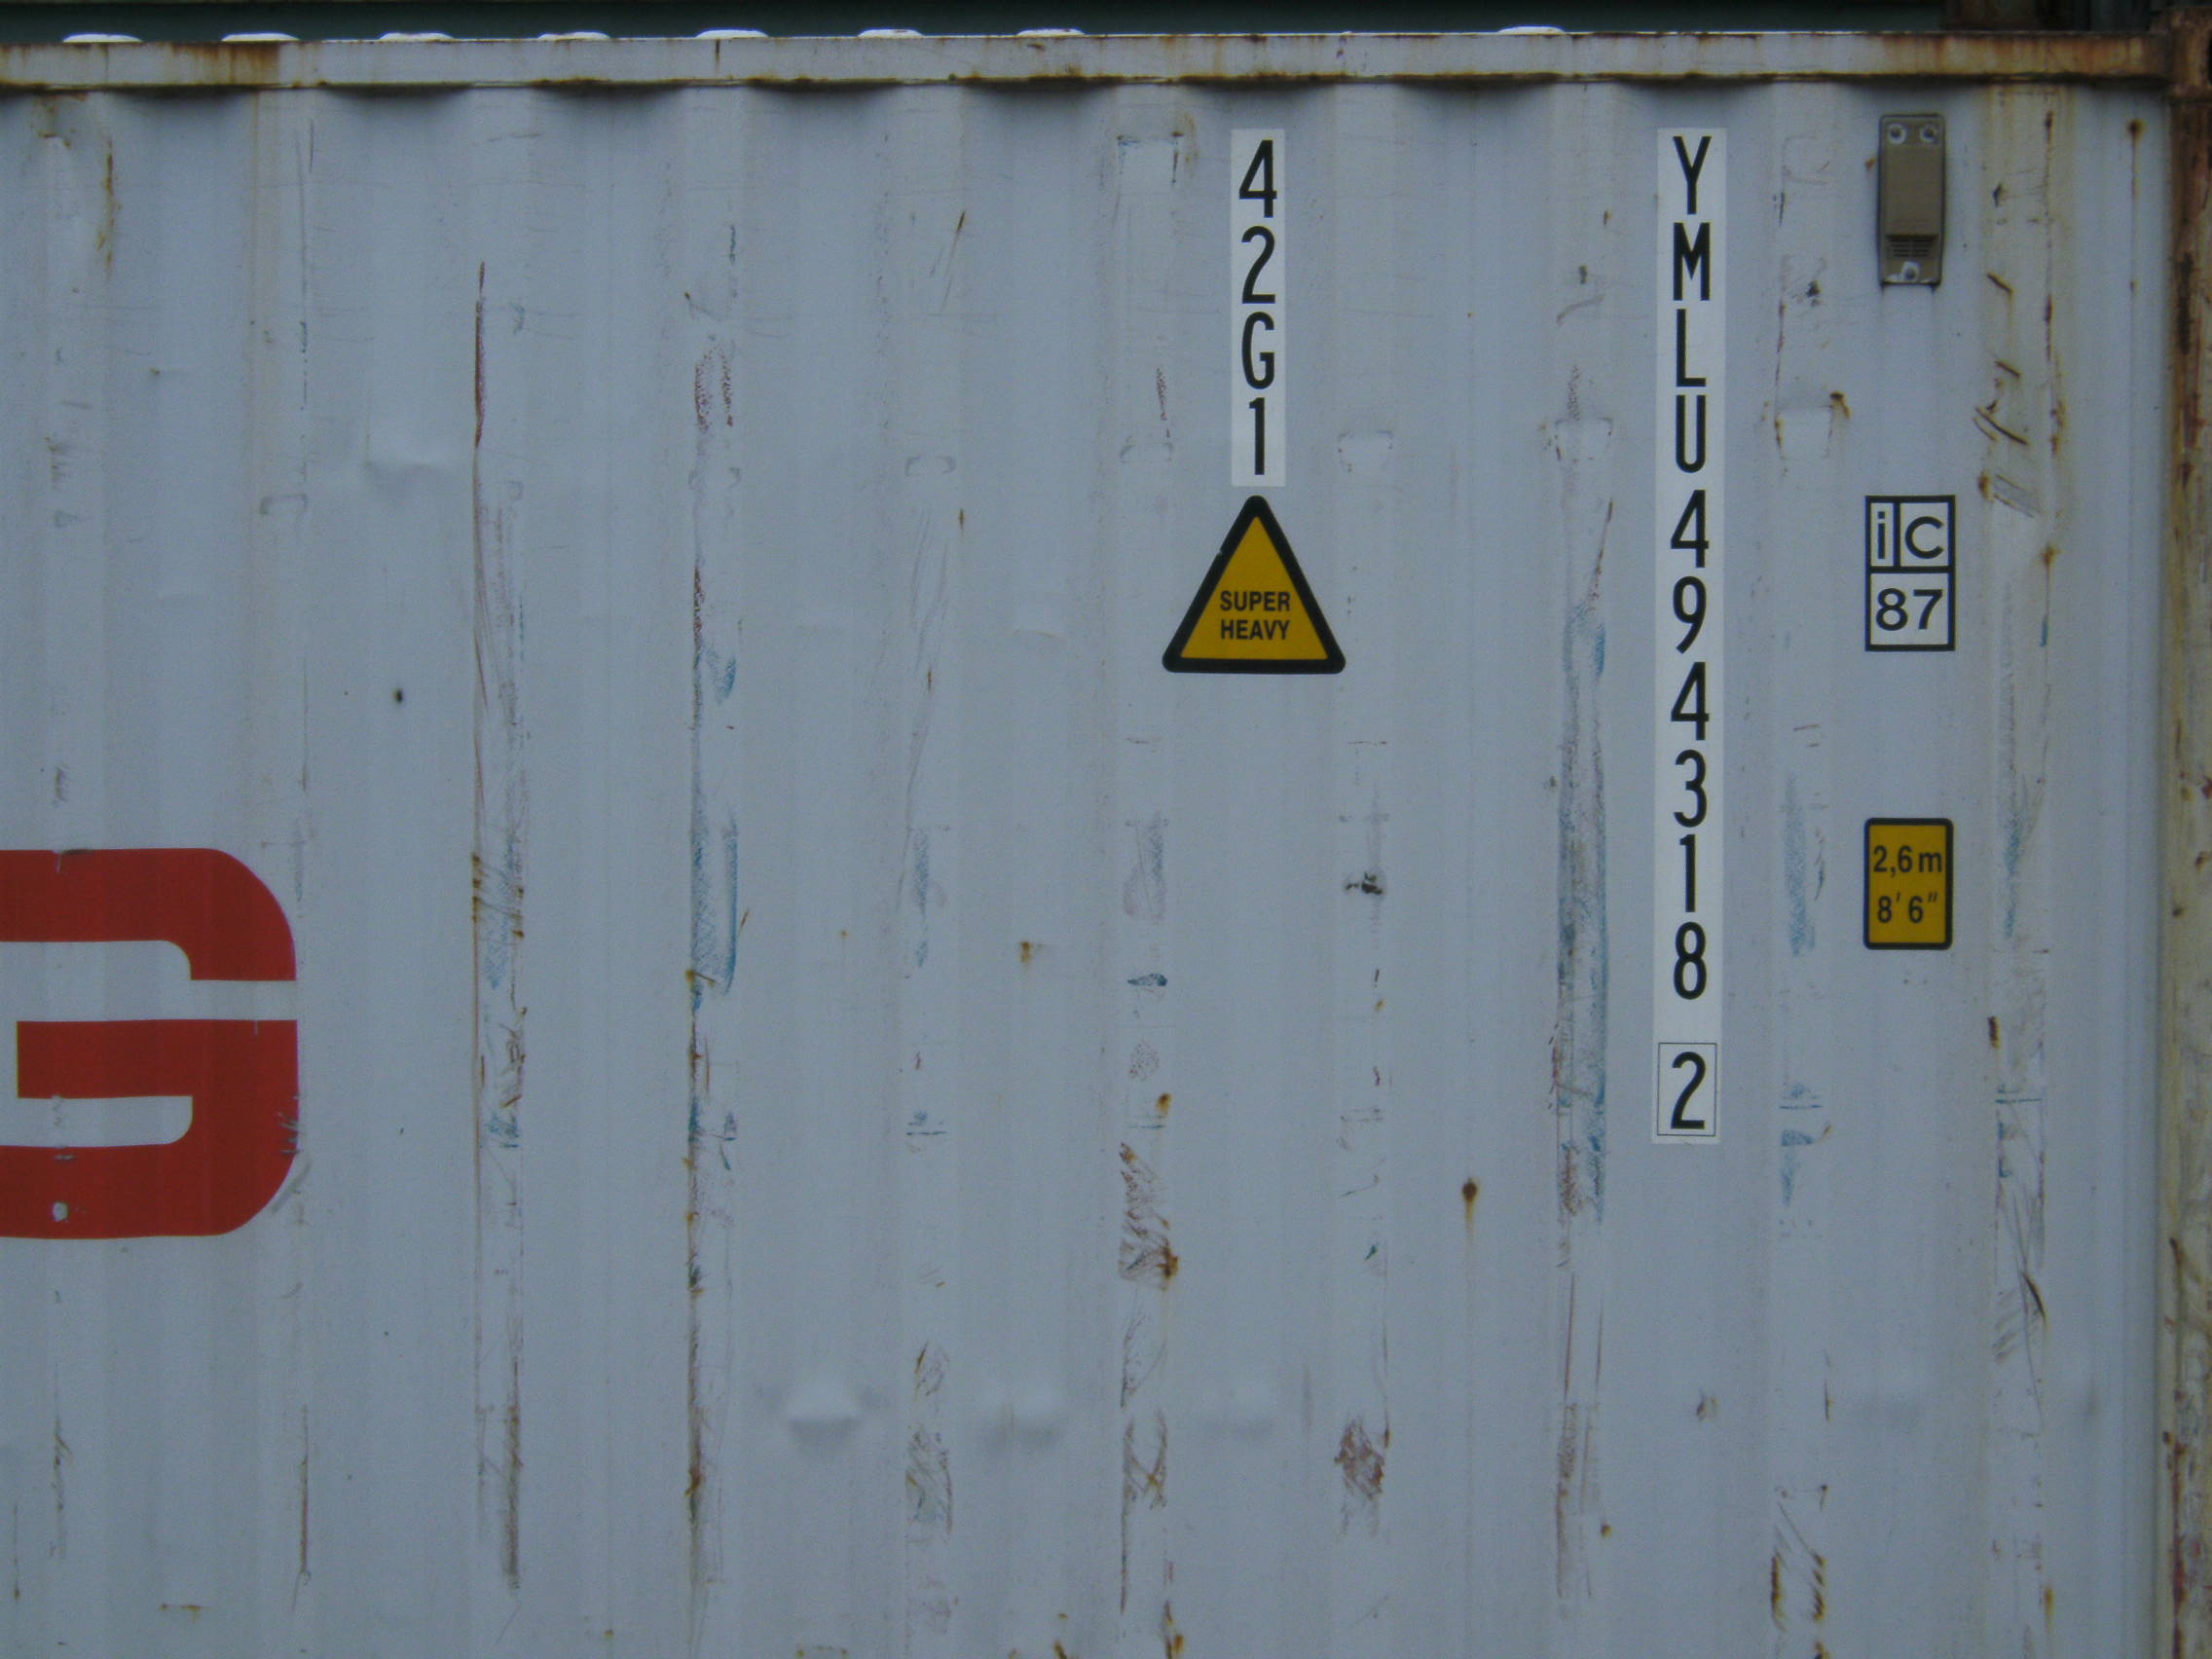container_no_door: (61, 155, 2088, 1605)
